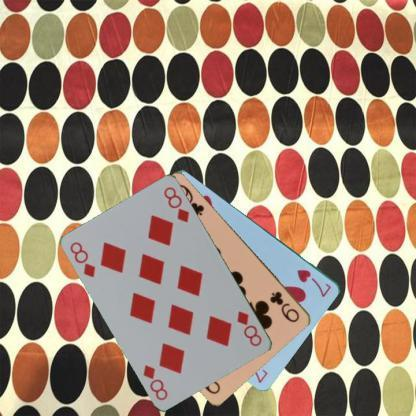7h: (294, 266, 333, 298)
8d: (234, 308, 264, 348), (68, 239, 97, 279)
9c: (267, 288, 301, 324)
